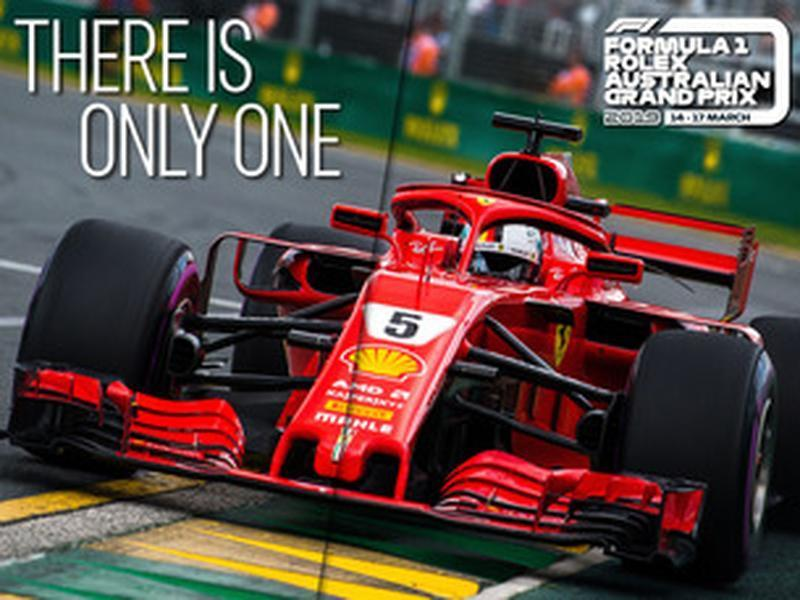f1: (42, 77, 794, 559)
